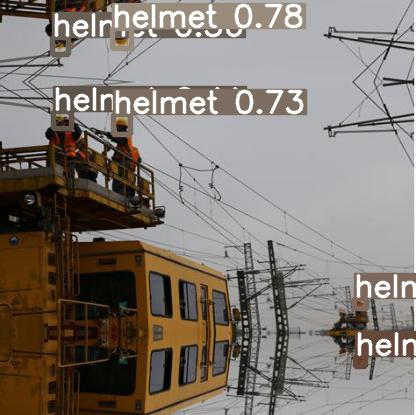helmet: (112, 28, 131, 48), (113, 114, 130, 134), (53, 111, 71, 128), (52, 37, 68, 54), (354, 298, 366, 308), (355, 356, 365, 366)
